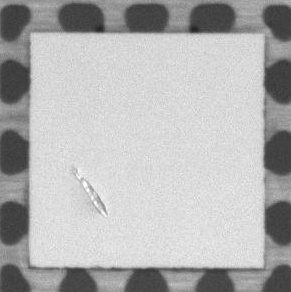DIE_INK: (69, 164, 106, 218)
